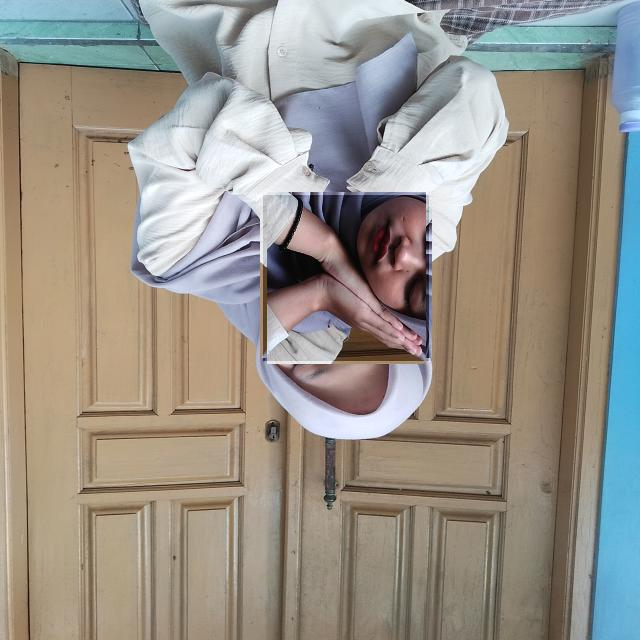tidur: (263, 195, 429, 361)
